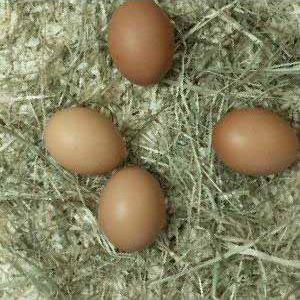egg: (212, 107, 300, 176), (97, 166, 166, 251), (107, 1, 174, 86), (44, 107, 125, 175)
